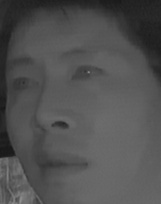eye: (70, 63, 107, 86), (7, 74, 45, 95)
mouth: (33, 147, 90, 184)
